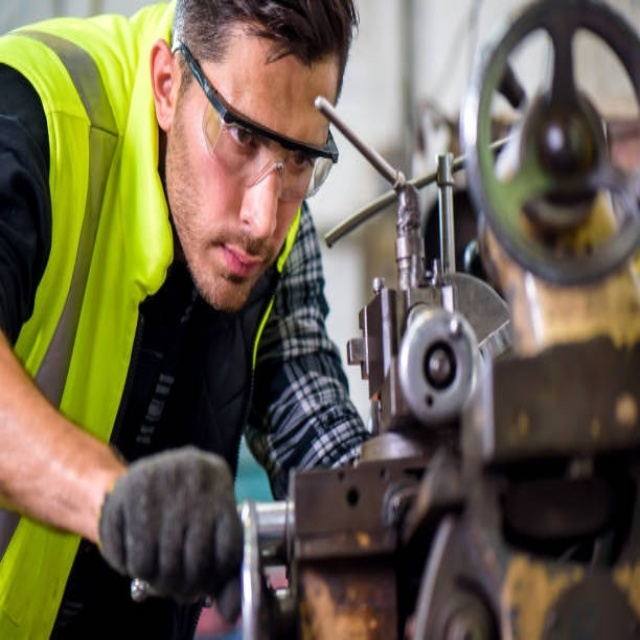Gafas: (176, 39, 339, 202)
Guantes: (96, 447, 245, 615)
Sin_mascara: (205, 234, 270, 312)
